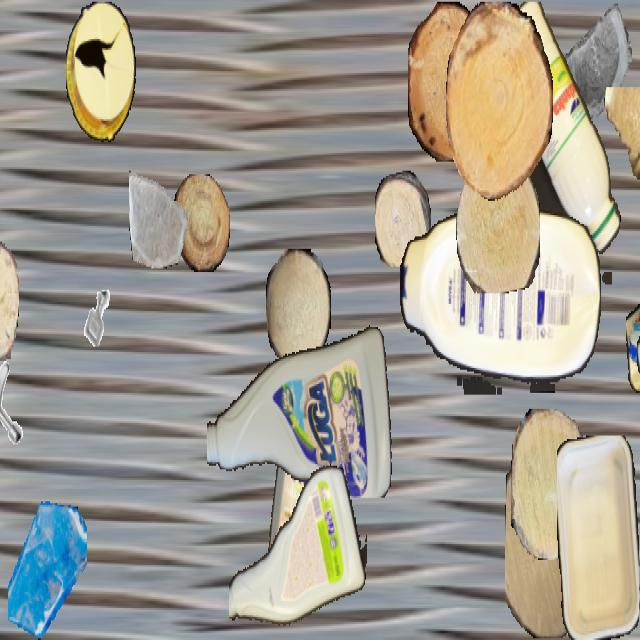glass: (8, 500, 86, 638), (560, 2, 632, 130), (129, 164, 187, 266)
metal: (570, 439, 630, 546), (76, 279, 120, 357), (0, 356, 32, 452), (628, 528, 640, 613)
plastic: (400, 210, 600, 394), (492, 1, 622, 282), (207, 313, 395, 498), (229, 457, 367, 638), (557, 436, 639, 638), (263, 386, 329, 602), (66, 2, 136, 140), (626, 237, 640, 407), (636, 288, 640, 501)
wood: (446, 2, 552, 201), (505, 439, 593, 638), (408, 2, 490, 162), (456, 150, 540, 292), (511, 409, 591, 558), (266, 249, 330, 363), (173, 174, 229, 270), (375, 170, 431, 266), (603, 87, 640, 183), (0, 242, 19, 359)
